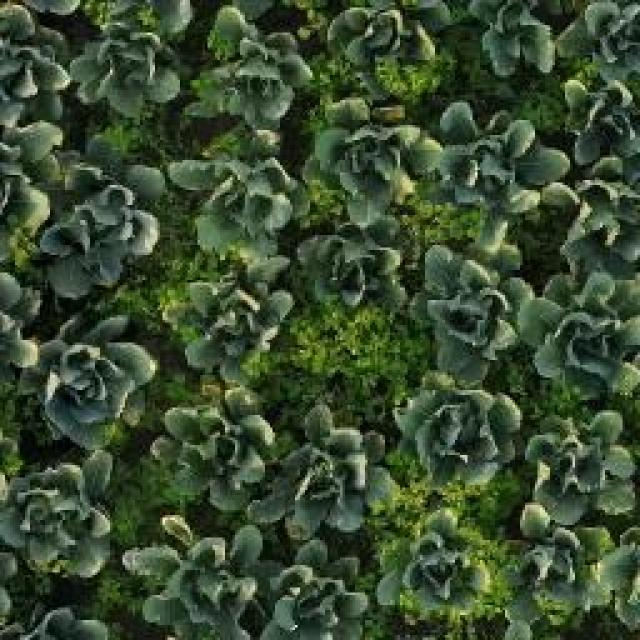cabbage: (308, 94, 442, 214), (434, 100, 564, 217), (526, 266, 640, 394), (122, 527, 249, 640), (0, 465, 117, 582), (268, 418, 391, 529), (396, 382, 517, 493), (174, 154, 293, 265), (38, 330, 148, 448), (207, 6, 317, 123), (423, 244, 524, 368), (43, 187, 161, 293), (177, 286, 296, 382), (157, 390, 265, 488), (532, 410, 632, 512), (265, 549, 376, 639), (70, 34, 194, 114), (302, 239, 415, 320), (322, 0, 444, 70), (406, 521, 495, 607), (559, 174, 640, 260), (554, 74, 640, 155), (504, 512, 583, 597), (462, 0, 556, 70)
